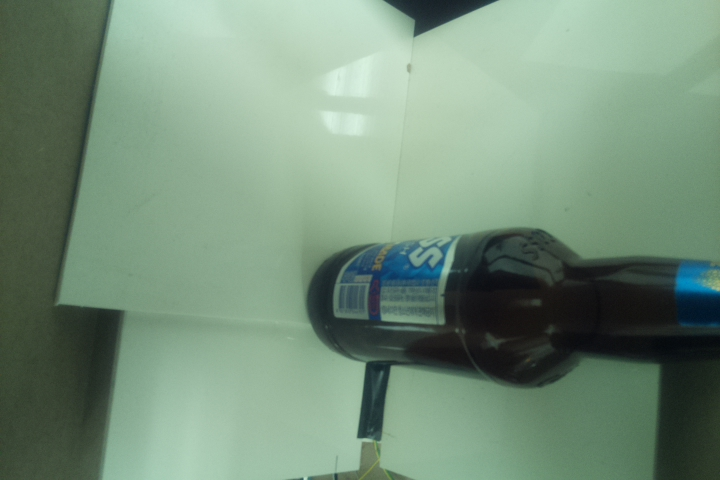makju: (306, 225, 720, 392)
